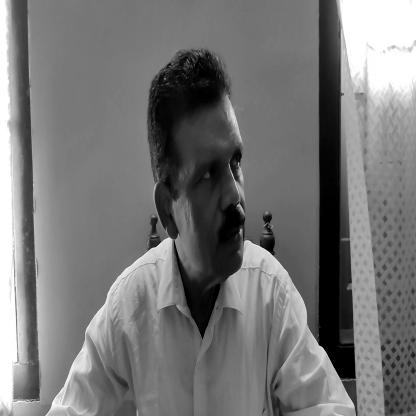Distracted: (148, 48, 253, 285)
